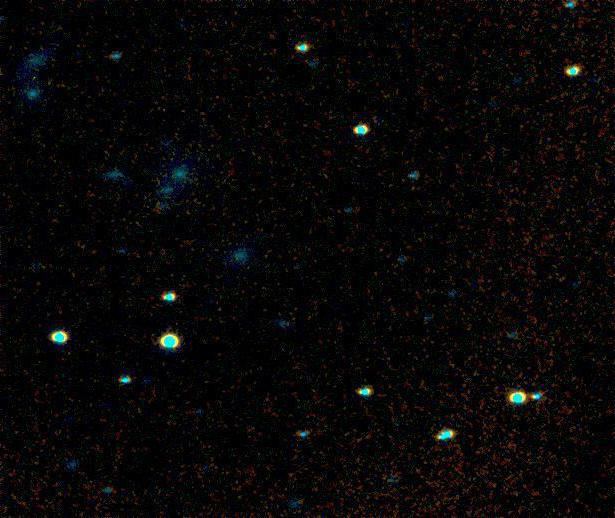star: (114, 167, 144, 197)
